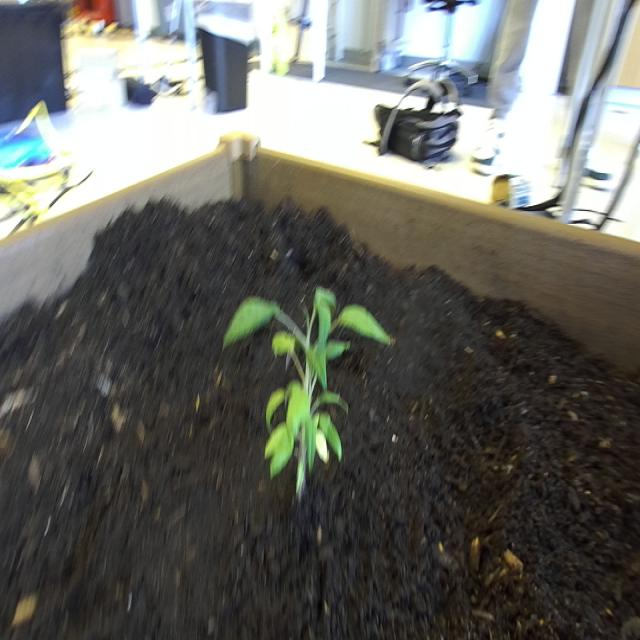Healthy: (218, 272, 405, 516)
